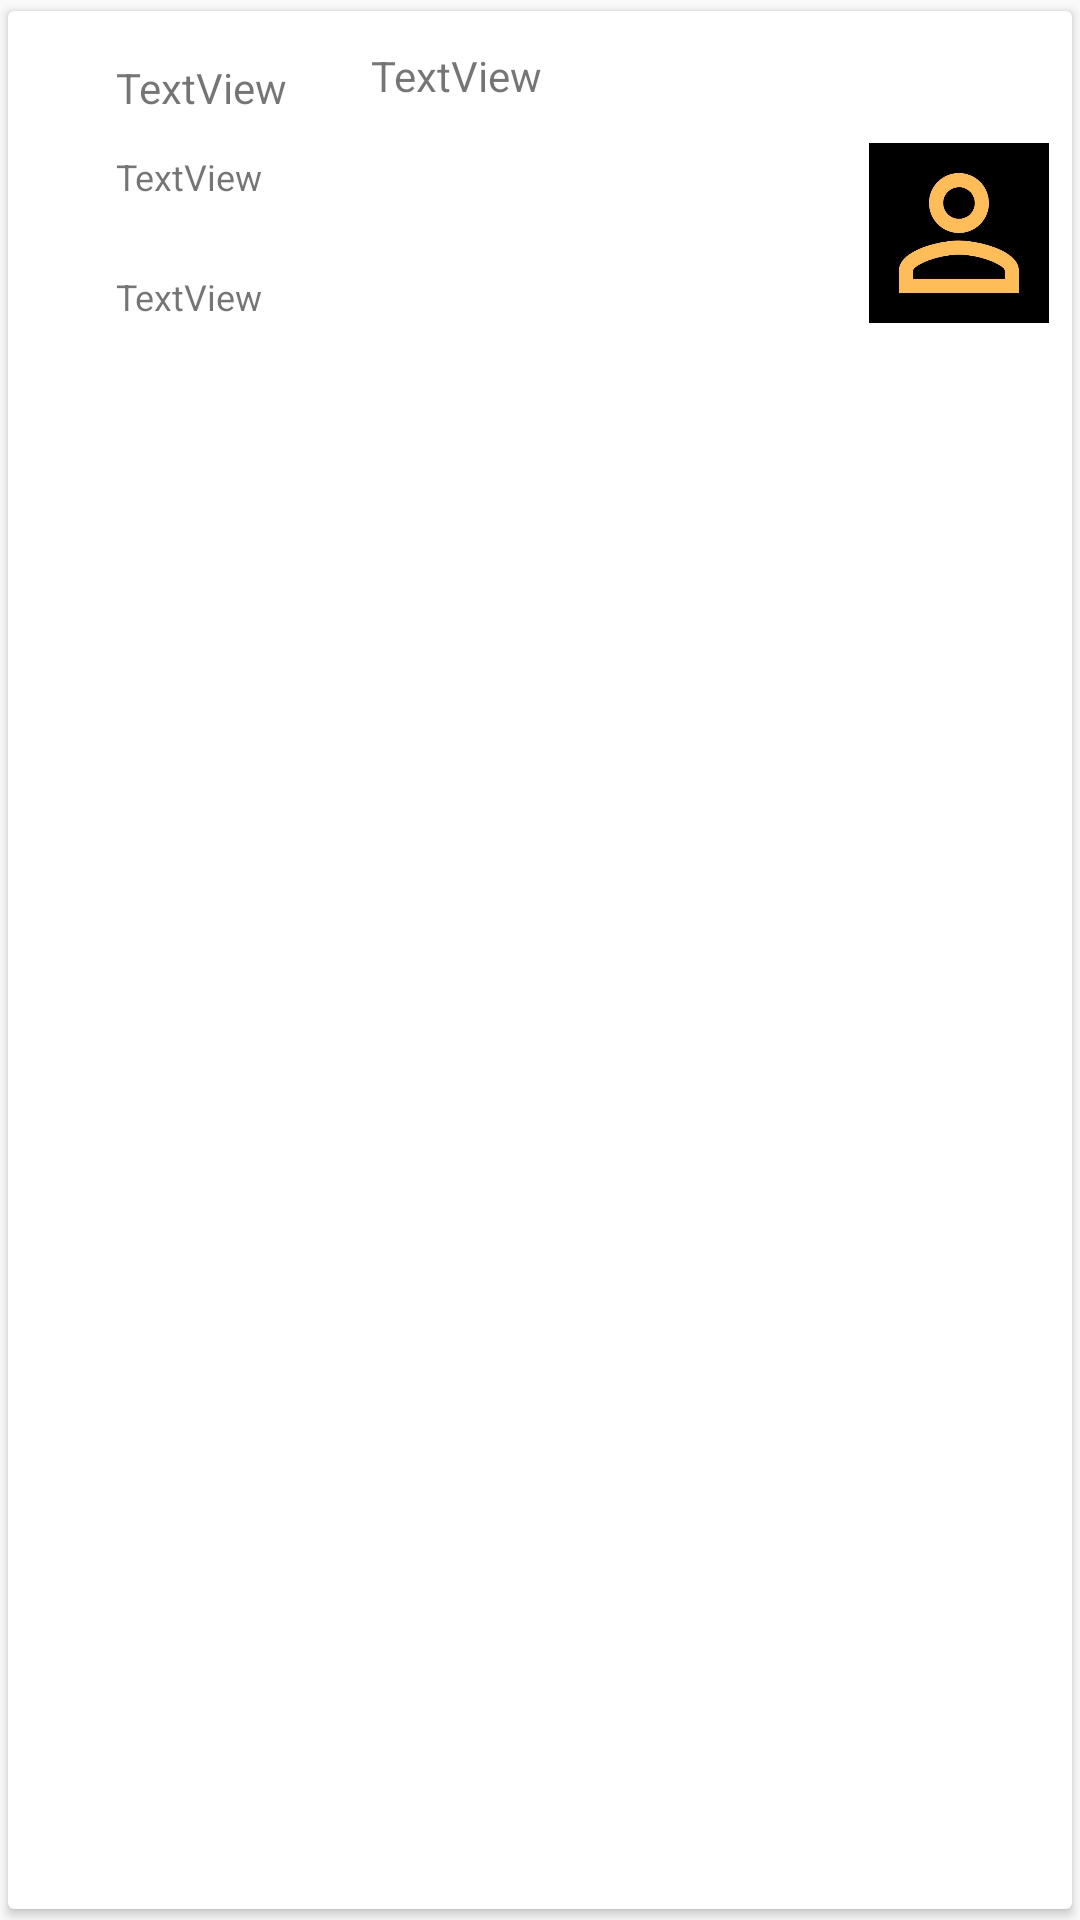

Icon click points for this 1080w x 1920h phone screenshot, format (x=x, y=y):
profil: (x=959, y=233)
